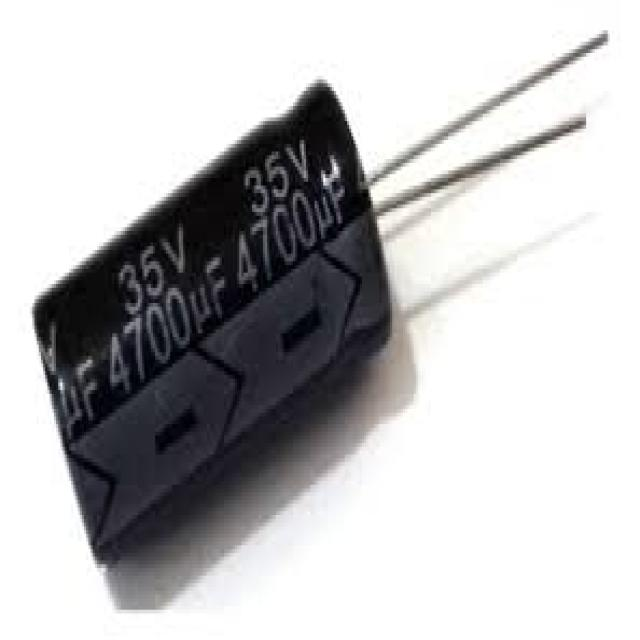Capacitor: (30, 80, 394, 606)
